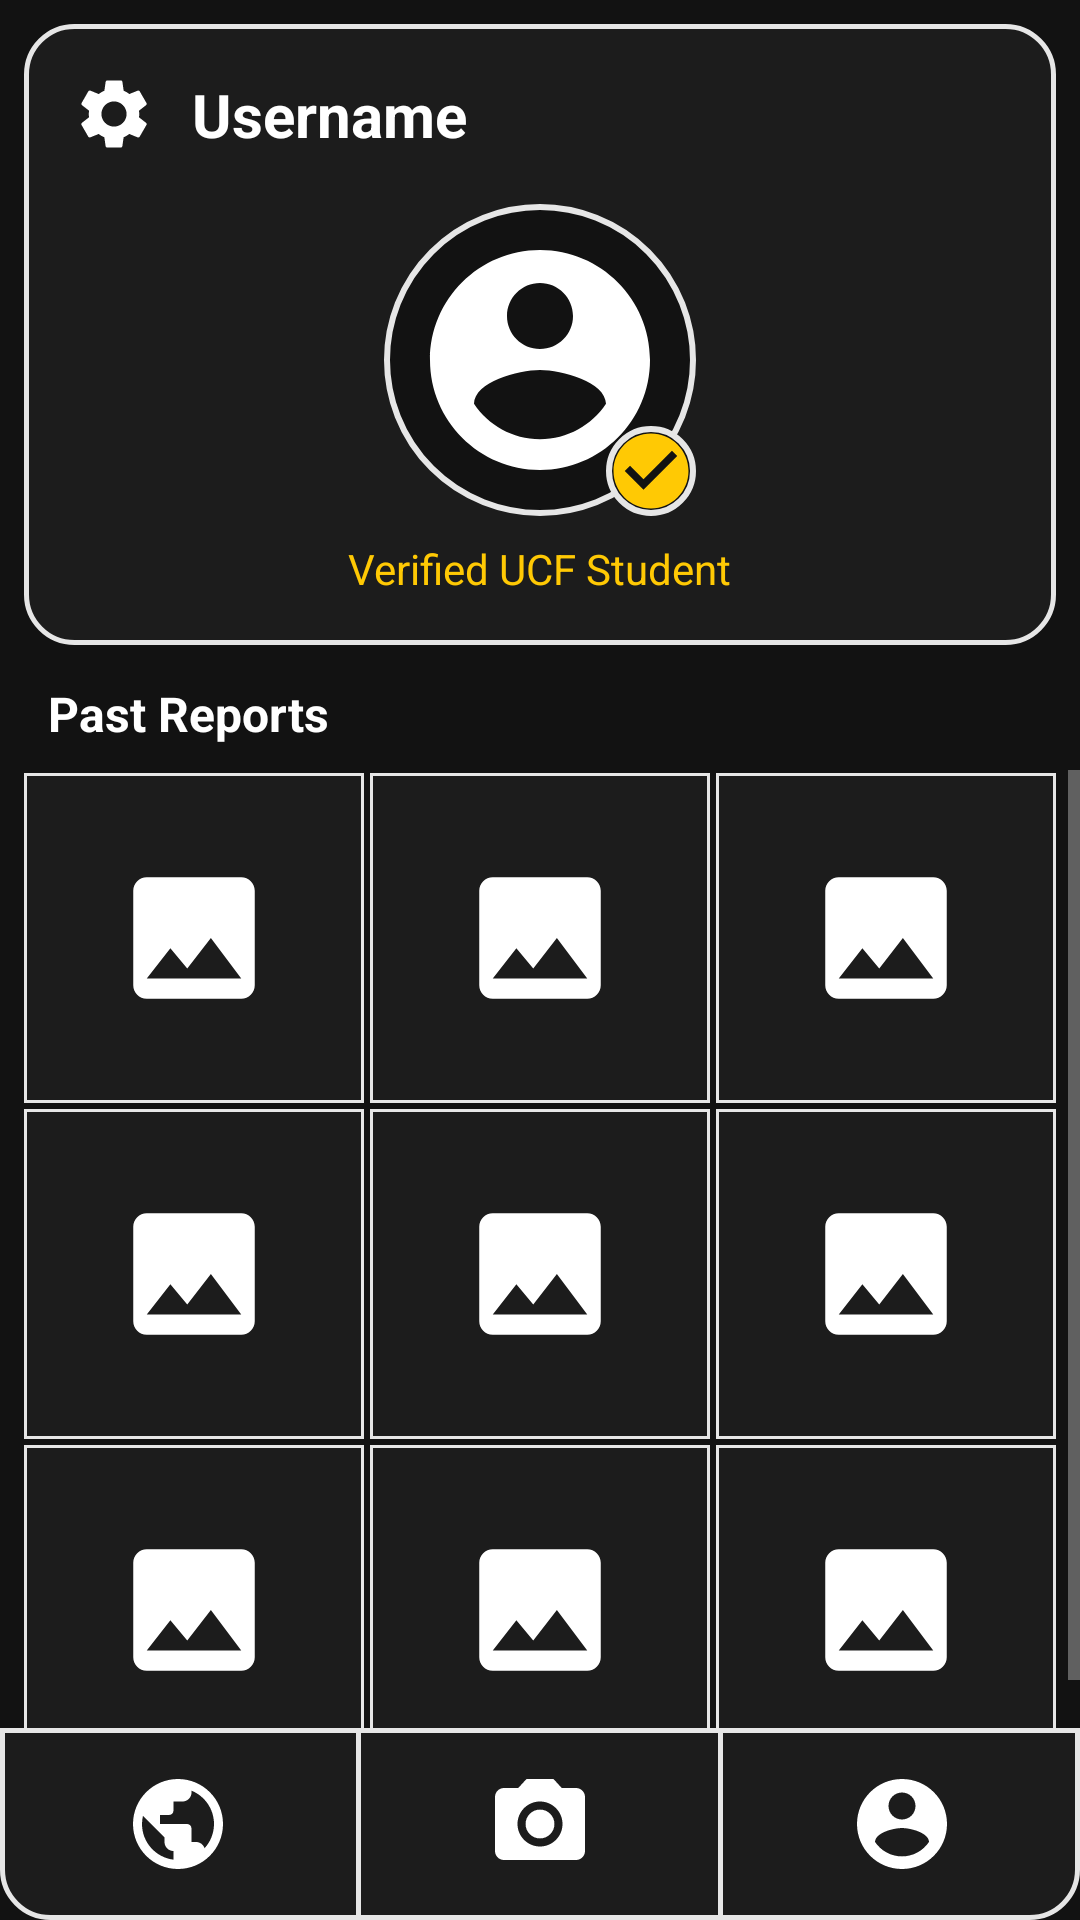

Named icons in this screenshot (1080w x 1920h) and their centers, point (x, y):
Map: point (178, 1824)
Profile: point (902, 1824)
Settings: point (114, 114)
